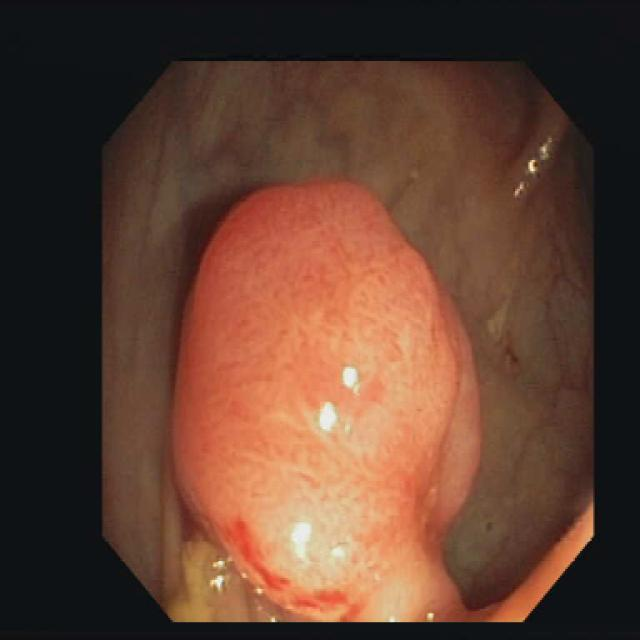tumor: (173, 184, 537, 620)
